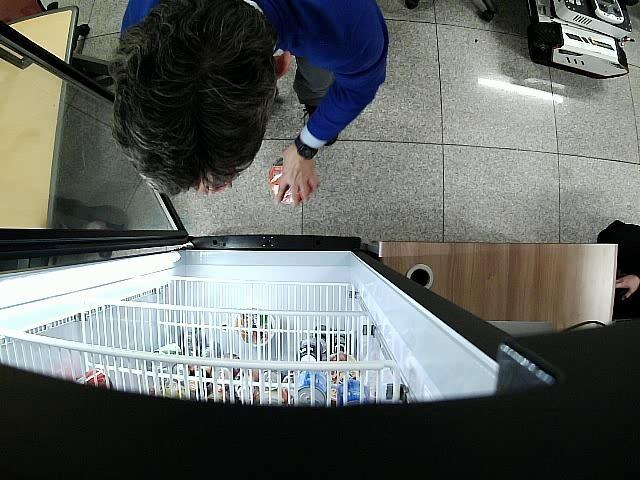01_ShinRamen_L: (268, 157, 314, 202)
